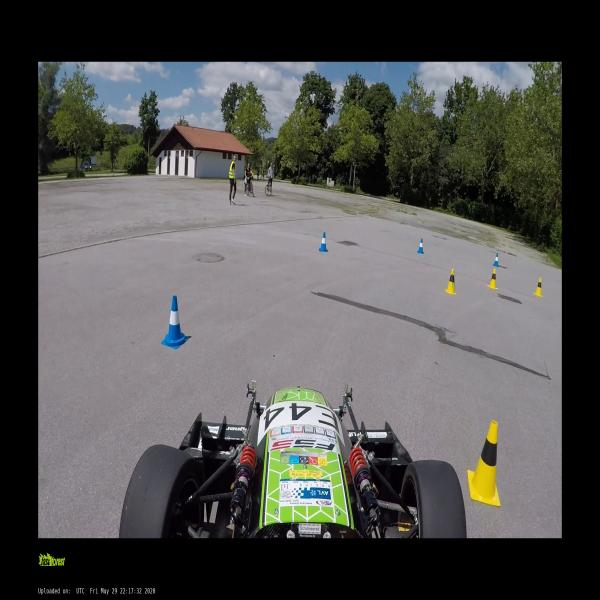blue_cone: (161, 295, 190, 349), (318, 232, 328, 252), (417, 238, 424, 254), (493, 253, 499, 267)
yellow_cone: (467, 420, 501, 506), (445, 268, 457, 294), (488, 268, 498, 290), (533, 277, 543, 297)
